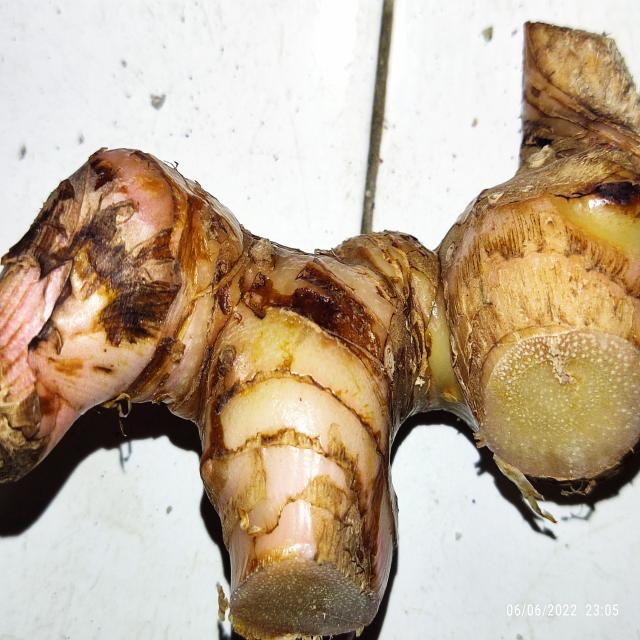ginger: (26, 33, 612, 550)
